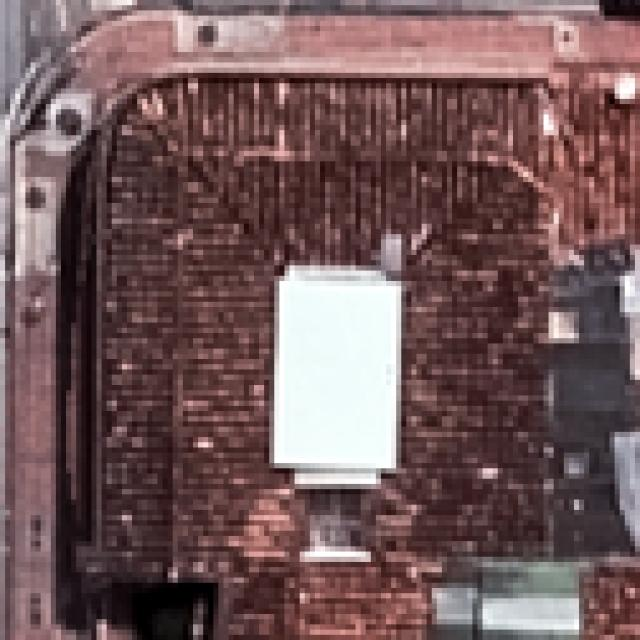Batiment: (64, 82, 550, 638), (539, 72, 640, 250)
